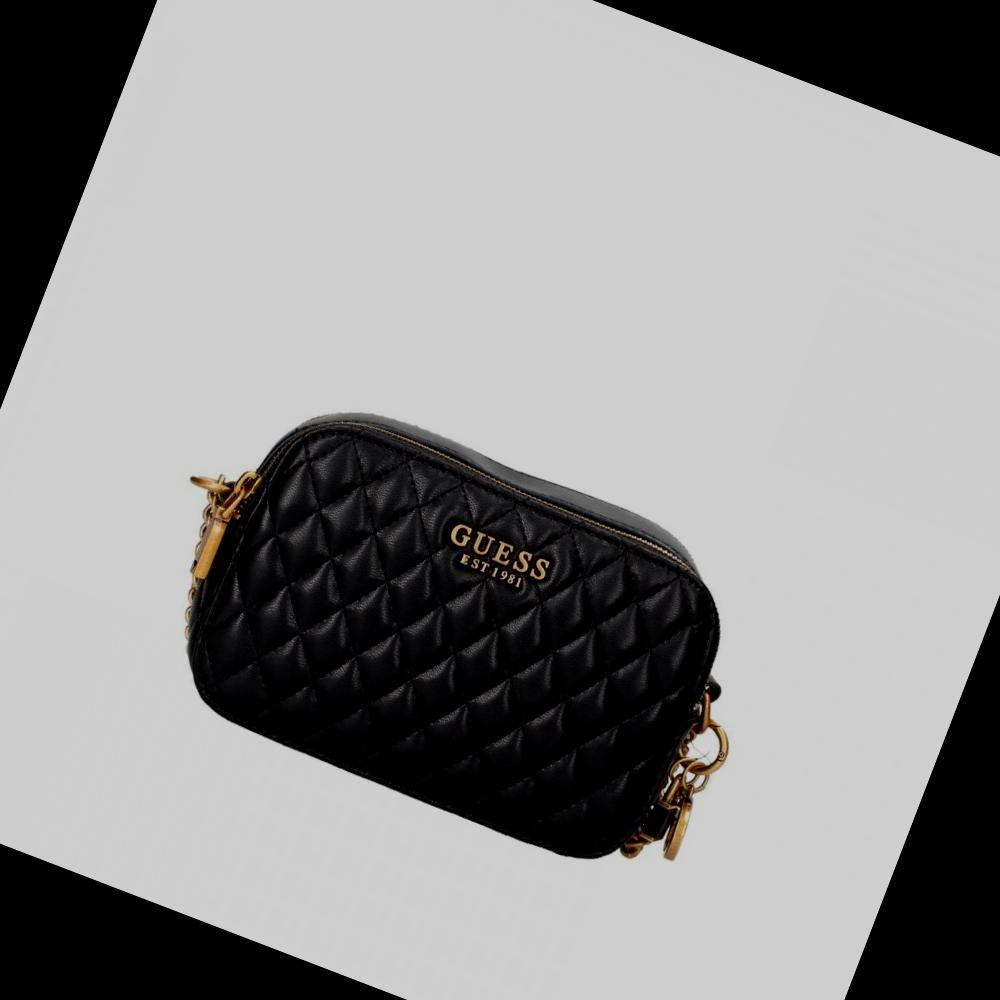GUESS: (446, 520, 552, 582)
